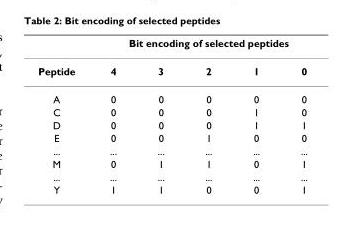table: (37, 36, 306, 195)
table column: (37, 36, 91, 195), (136, 36, 184, 195), (231, 36, 279, 195), (184, 36, 231, 195), (91, 36, 136, 195), (279, 36, 306, 195)
table column header: (37, 36, 306, 84)
table row: (37, 56, 306, 84), (37, 84, 306, 105), (37, 36, 306, 56), (37, 105, 306, 118), (37, 118, 306, 131), (37, 131, 306, 144), (37, 156, 306, 169), (37, 169, 306, 182), (37, 182, 306, 195), (37, 144, 306, 156)
table spanning cell: (91, 36, 306, 56), (37, 36, 91, 84)
